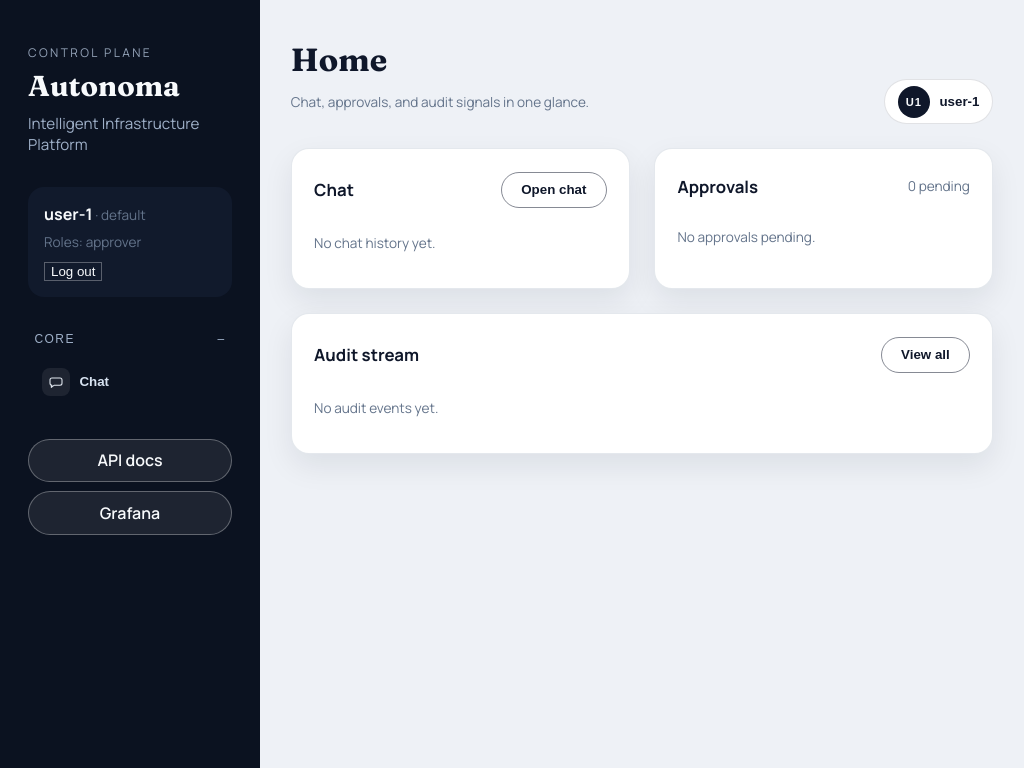
Test case: App auth flow › renders approval detail in chat responses
Step 1. Click the button "Chat" → (130, 382), box [28,357,232,407]
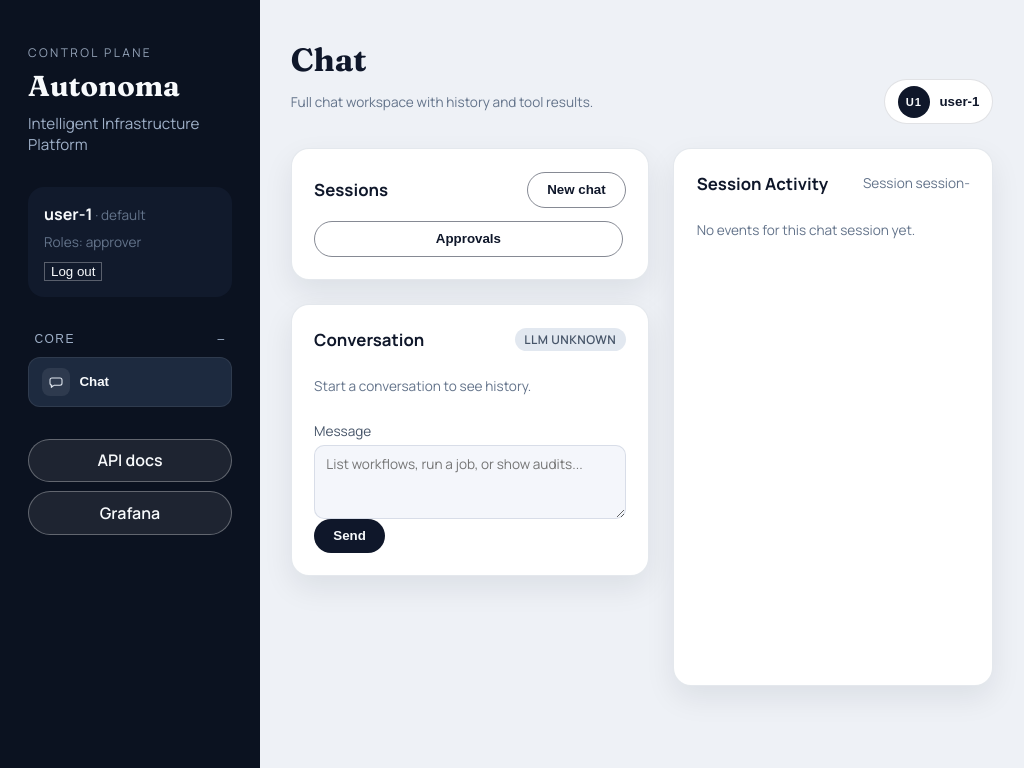
Check: the button "Approvals" is shown
Step 2. Click the button "Approvals" → (468, 239), box [314,221,623,257]
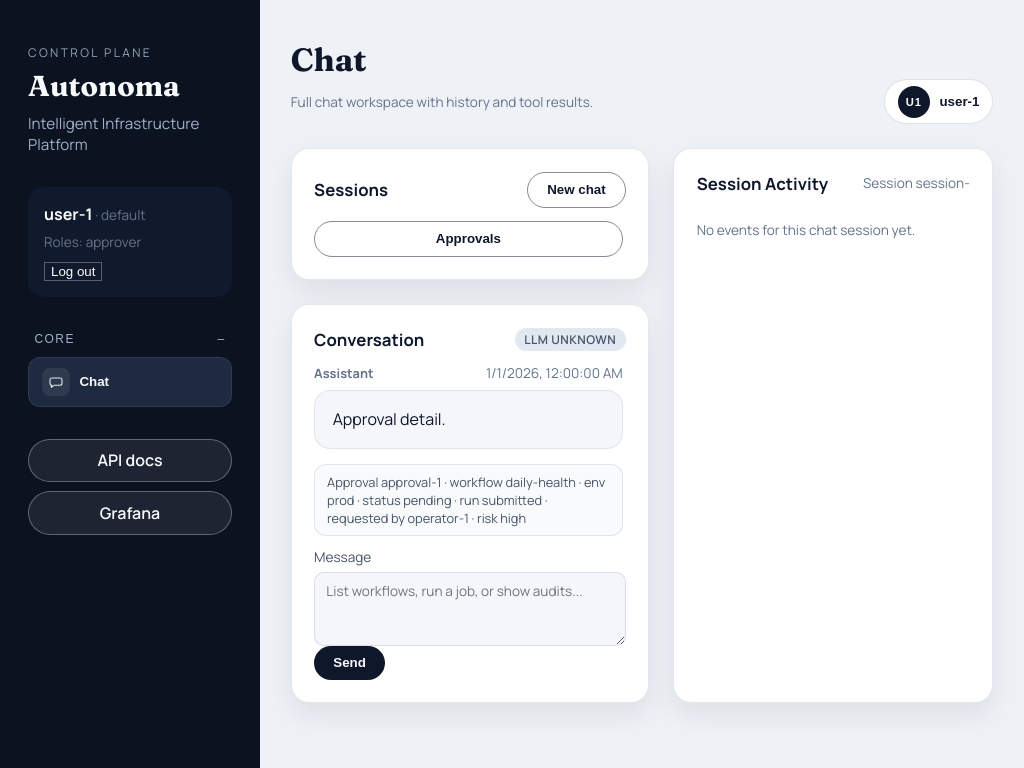
Check: the text "env prod" is shown, box [327,473,605,527]
